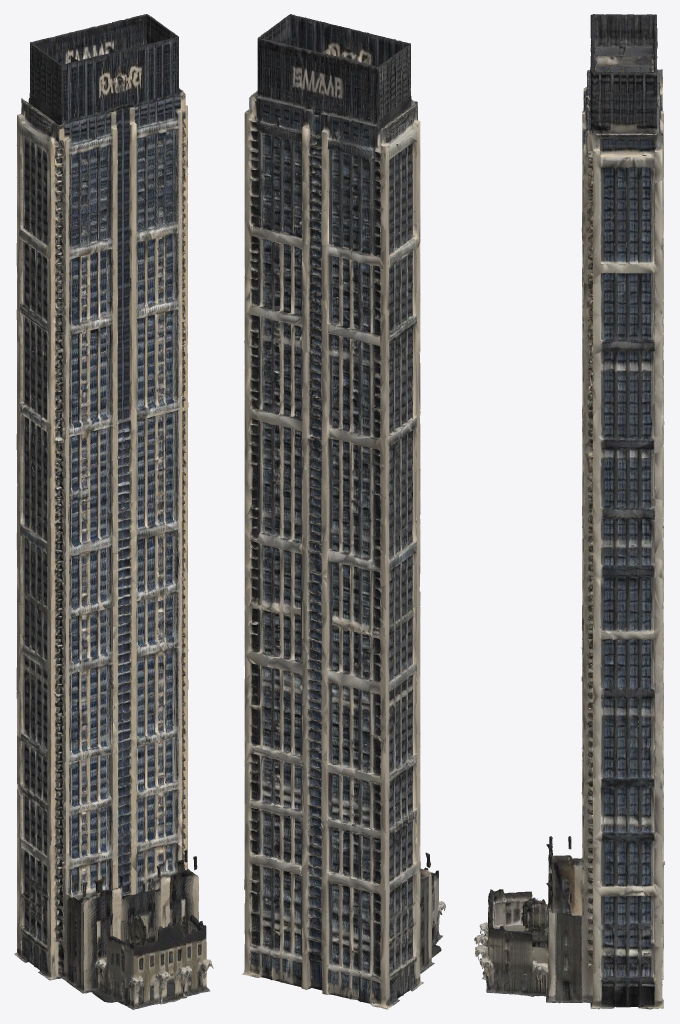
Rendered from burj-royale.glb.
The picture shows the model from 3 angles, left to right: view 1: azimuth 30°, elevation 25°; view 2: azimuth 150°, elevation 25°; view 3: azimuth 270°, elevation 25°; orthographic projection. The views are drawn at different scales.
Parts seen in each view (by area): view 1: Mesh_0; view 2: Mesh_0; view 3: Mesh_0.
Boxes of the visible parts, x1=… form: Mesh_0: x1=14, y1=14, x2=213, y2=1009; Mesh_0: x1=242, y1=14, x2=445, y2=1009; Mesh_0: x1=474, y1=14, x2=664, y2=1009.
Bounding box in the file's own units: 34.99 × 215 × 39.99.
Materials: 1 (1 with a texture image).
